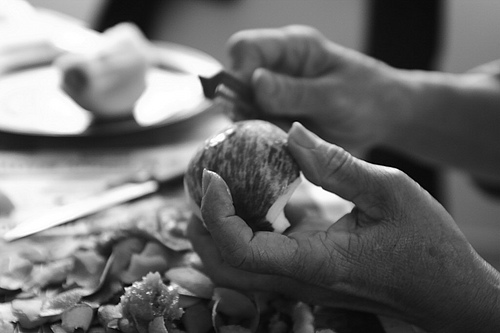apple: (183, 119, 303, 233), (55, 24, 148, 113)
